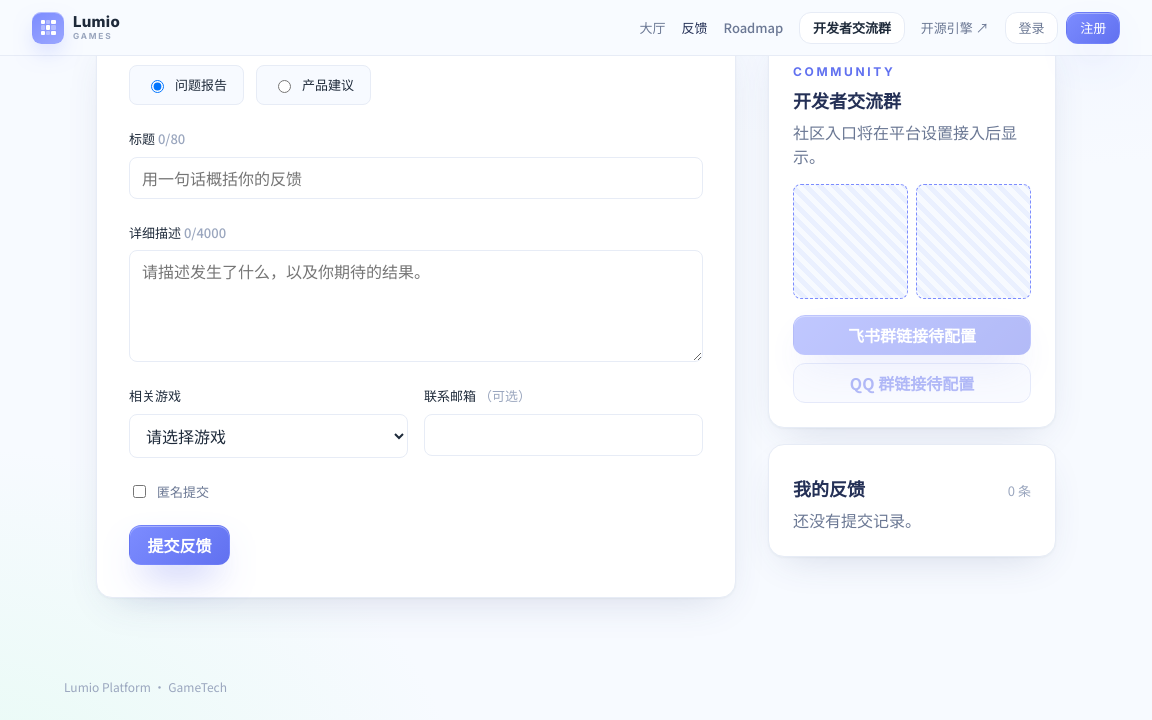
Test: feedback form validates content and records a new entry
(page scrolled)
Click the button "提交反馈" at [180, 545], box [129, 525, 230, 565]
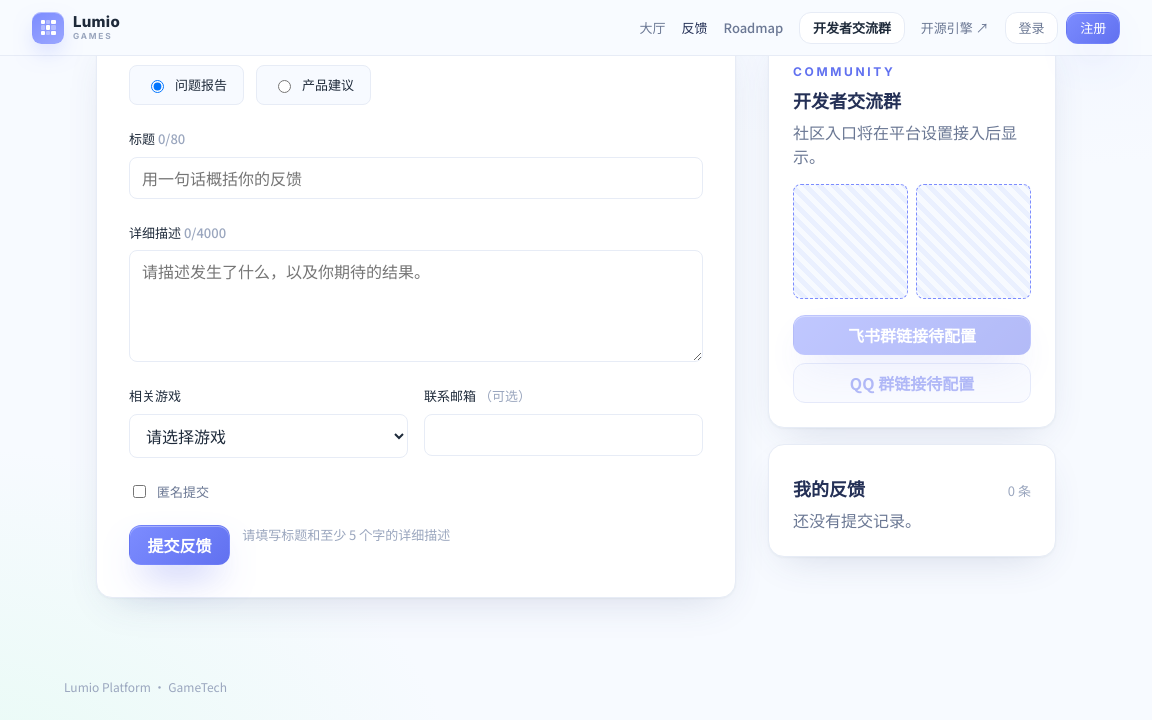
expect the message shows "请填写标题": met, box [242, 525, 450, 544]
Type "房间反馈" into the field labelled "标题 0/80" at [416, 178], box [129, 157, 703, 199]
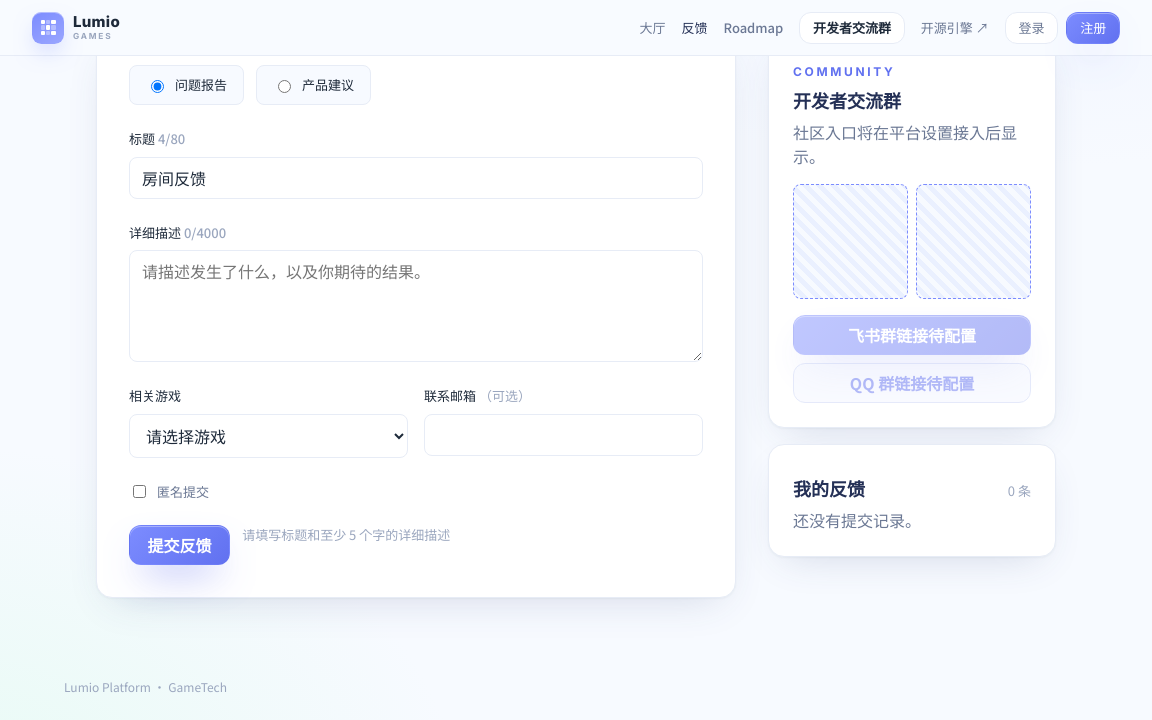
Type "加载需要更清晰的状态提示" into the text box labelled "详细描述 0/4000" at [416, 306], box [129, 250, 703, 362]
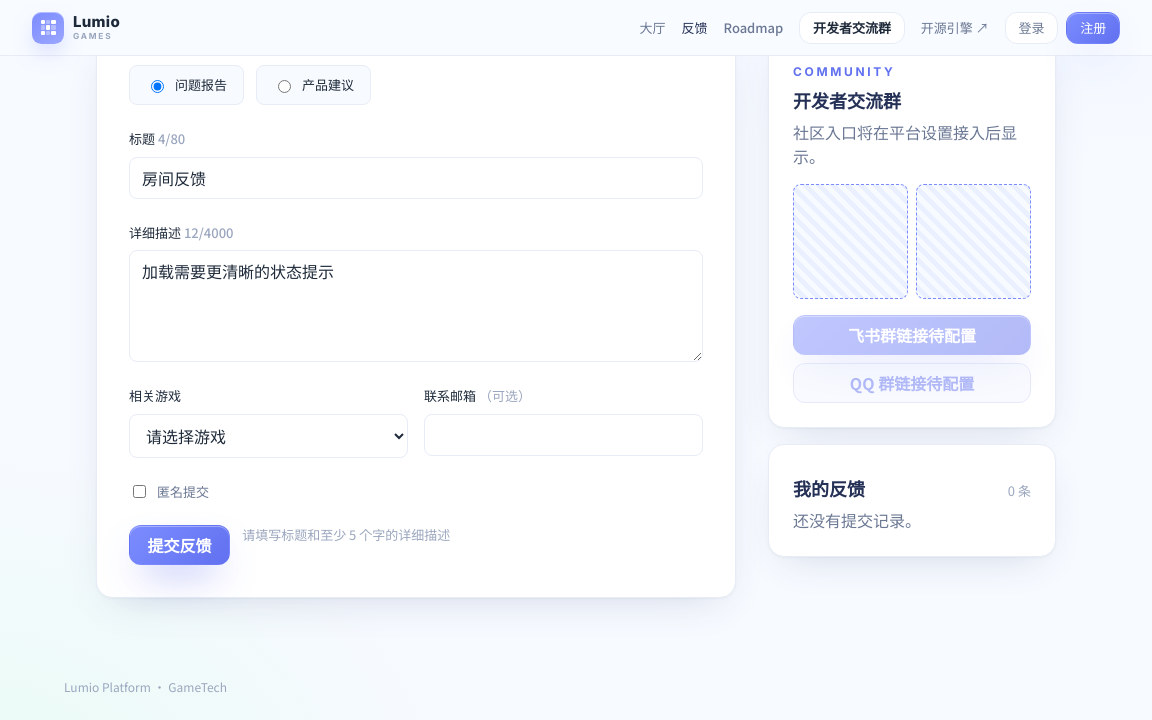
Click the button "提交反馈" at [180, 545], box [129, 525, 230, 565]
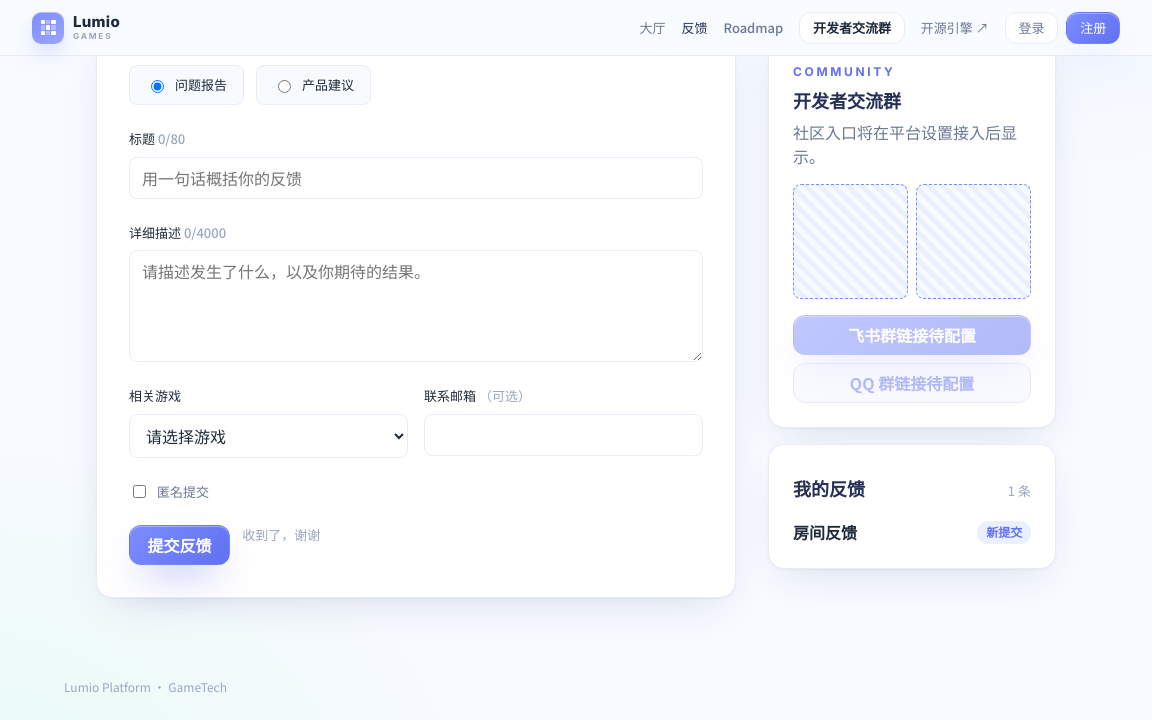
expect the message reads "收到了，谢谢": met, box [242, 525, 320, 544]
expect the text "房间反馈" is shown: met, box [793, 520, 857, 544]
